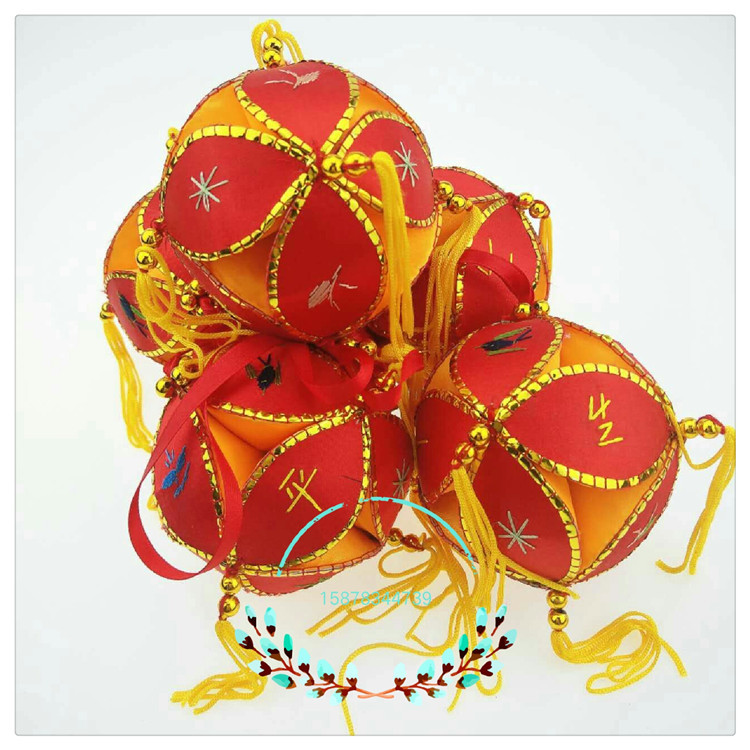xiuqiu: (158, 63, 442, 339), (415, 314, 681, 590), (151, 341, 414, 595)
